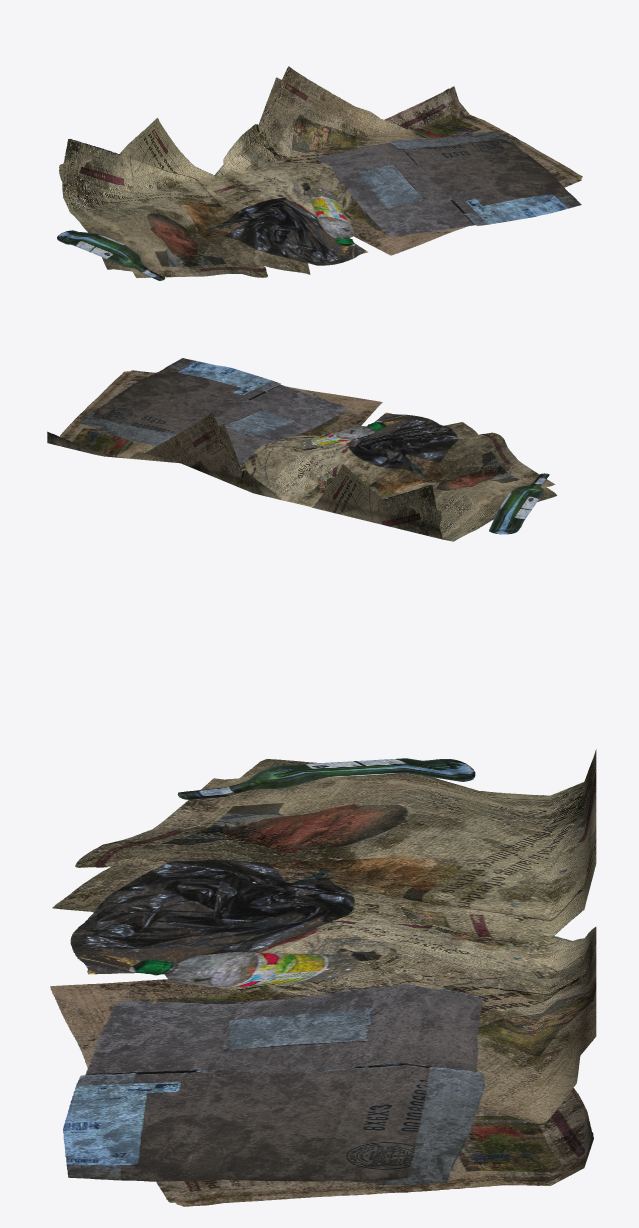
The model's file is 3D_Decal_14.fbx.
3 renders of one model, top to bottom at view 1: azimuth 30°, elevation 25°; view 2: azimuth 150°, elevation 25°; view 3: azimuth 270°, elevation 25°, orthographic. The views are drawn at different scales.
Visible parts, largest first — view 1: THREED_Decal; view 2: THREED_Decal; view 3: THREED_Decal.
Boxes of the visible parts, left/top/right/bottom form: THREED_Decal: left=57, top=66, right=582, bottom=280; THREED_Decal: left=47, top=358, right=557, bottom=541; THREED_Decal: left=50, top=749, right=596, bottom=1206.
Size of the model in its own units: 2.42 by 0.4172 by 1.23.
